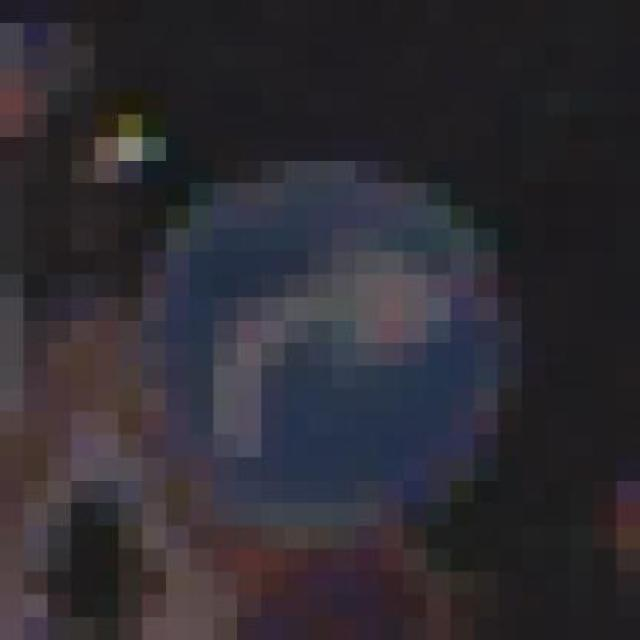Turn right ahead: (138, 110, 518, 567)
